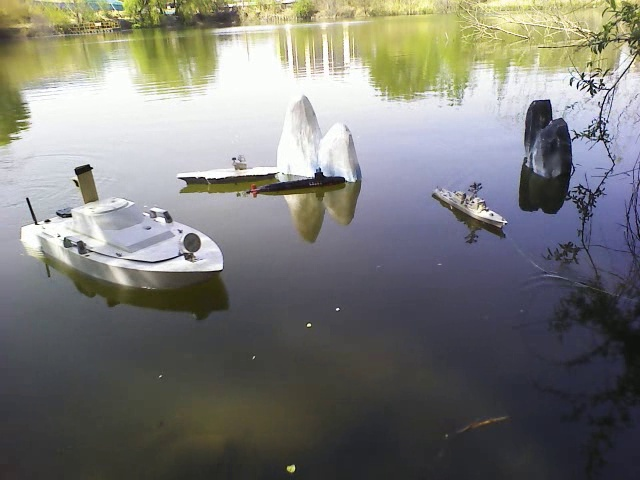aircraft_carrier: (176, 160, 279, 185)
boat: (19, 191, 231, 295)
iceberg: (273, 95, 370, 179)
rock: (518, 91, 575, 180)
submarine: (246, 173, 360, 193)
warship: (436, 180, 508, 232)
